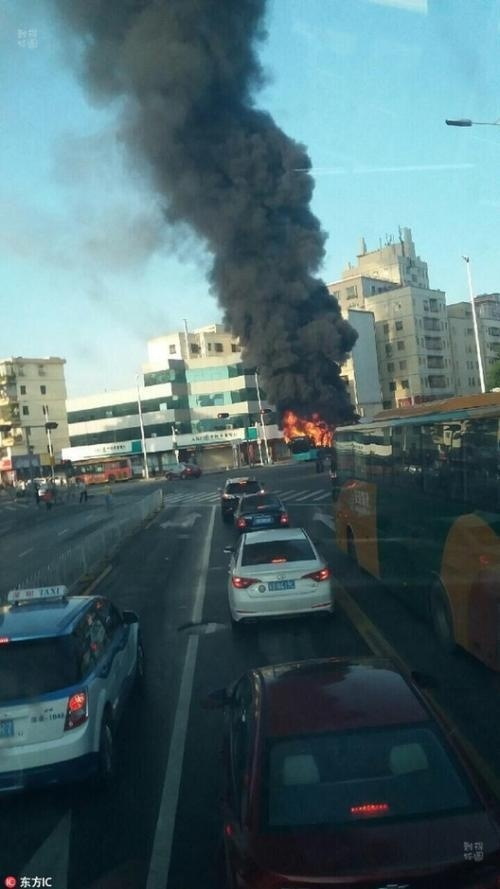fire: (280, 411, 335, 445)
